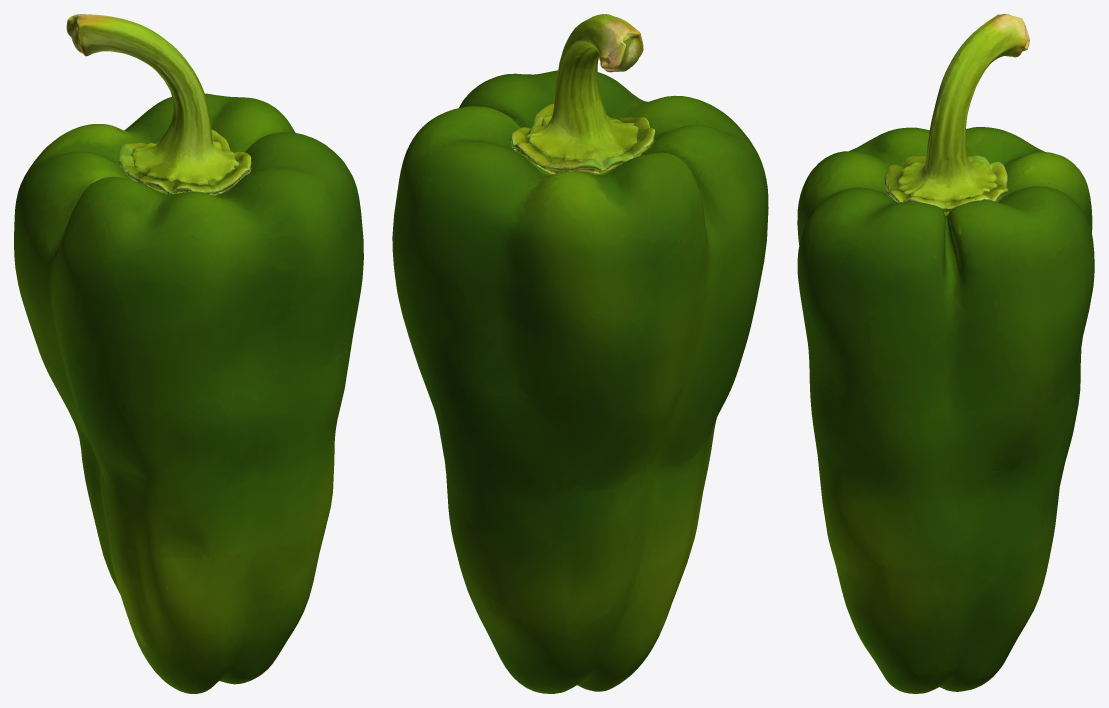
File: kitchen-bell-pepper-07.glb
3 renders of one model, left to right at view 1: azimuth 30°, elevation 25°; view 2: azimuth 150°, elevation 25°; view 3: azimuth 270°, elevation 25°, orthographic. The views are drawn at different scales.
Size of the model in its own units: 0.8352 by 1.9 by 0.8083.
Materials: 1 (1 with a texture image).
